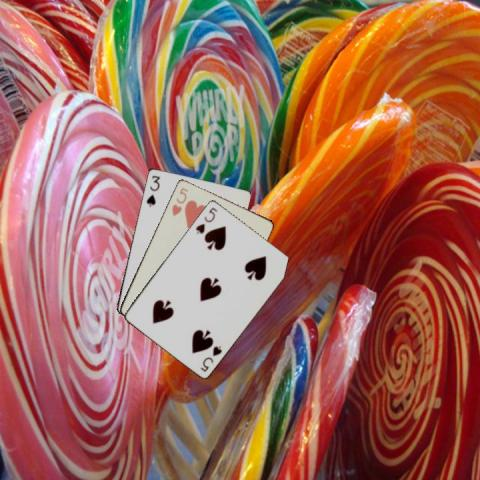3s: (143, 172, 161, 207)
5h: (169, 185, 189, 217)
5s: (192, 204, 218, 235), (198, 342, 224, 372)
